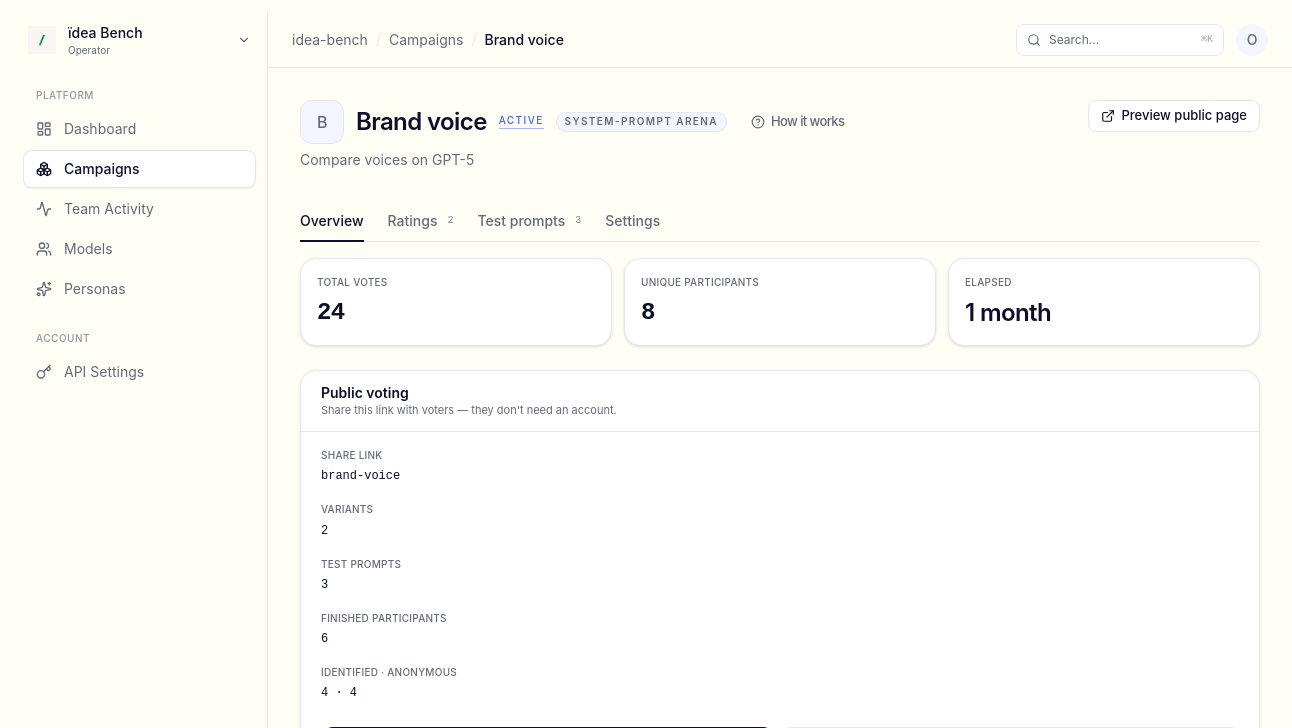
it: CampaignDashboard › system-prompt-arena surface (kind='system_prompt') › renders the leaderboard view toggle and the suite-size badge in the Ratings tab
The width and height of the screenshot is (1292, 728).
Click the tab "Ratings 2".
click(420, 222)  # box [388,202,453,242]
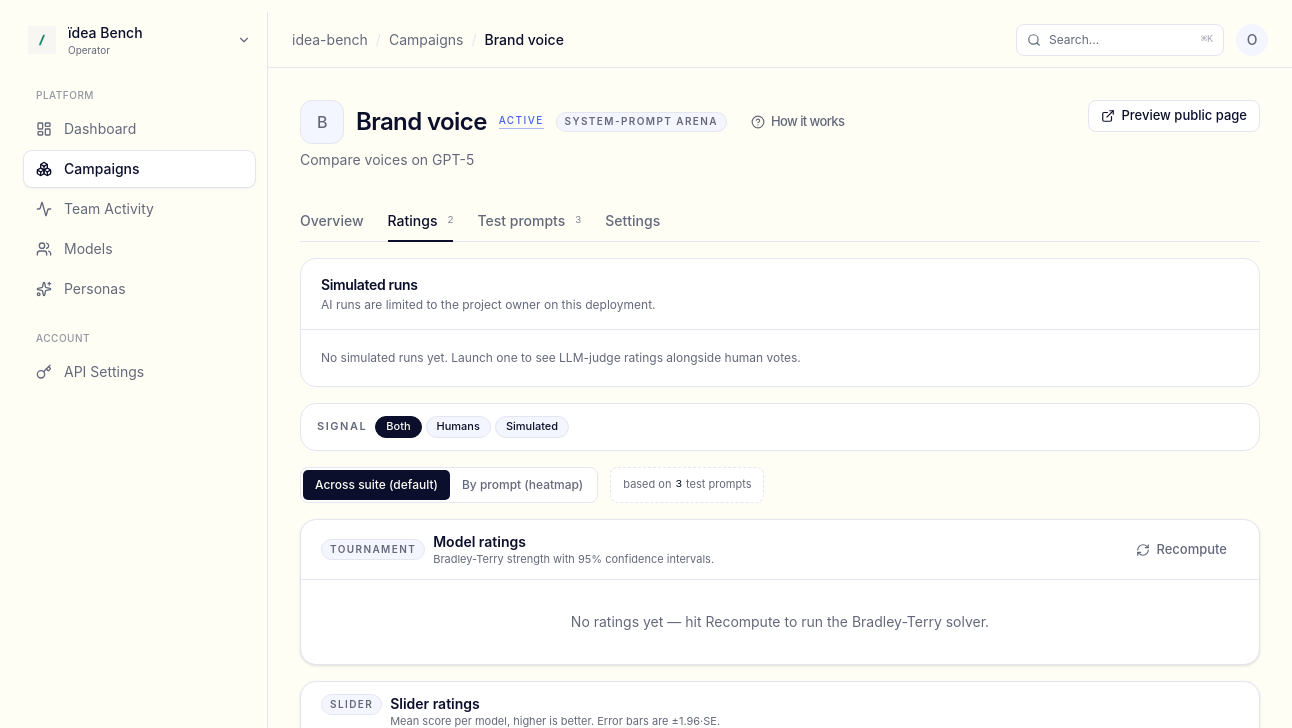
Result: the element showing "based on 3 test prompts" is shown at [610,467,764,503]
